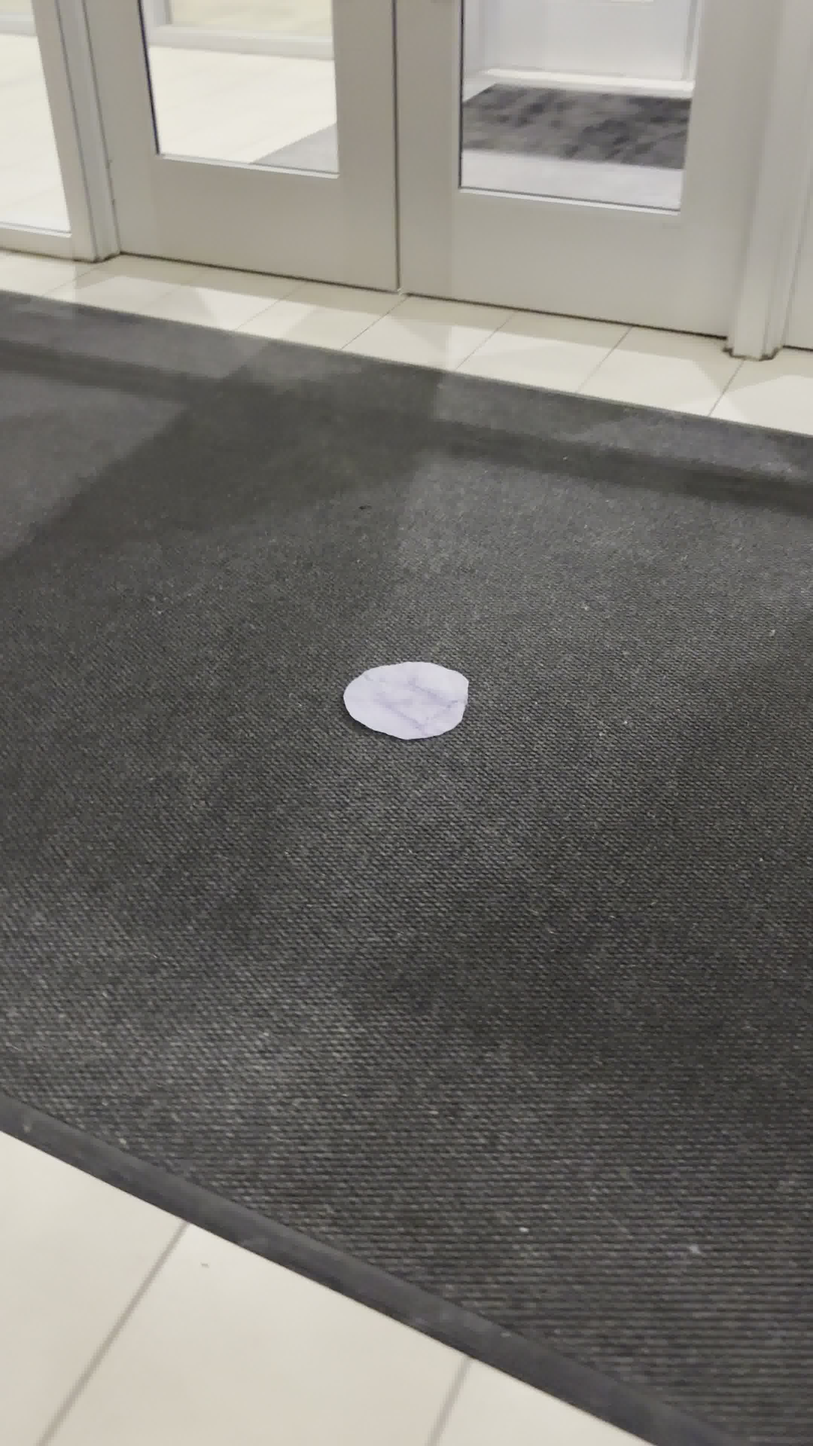Target: (343, 661, 469, 740)
